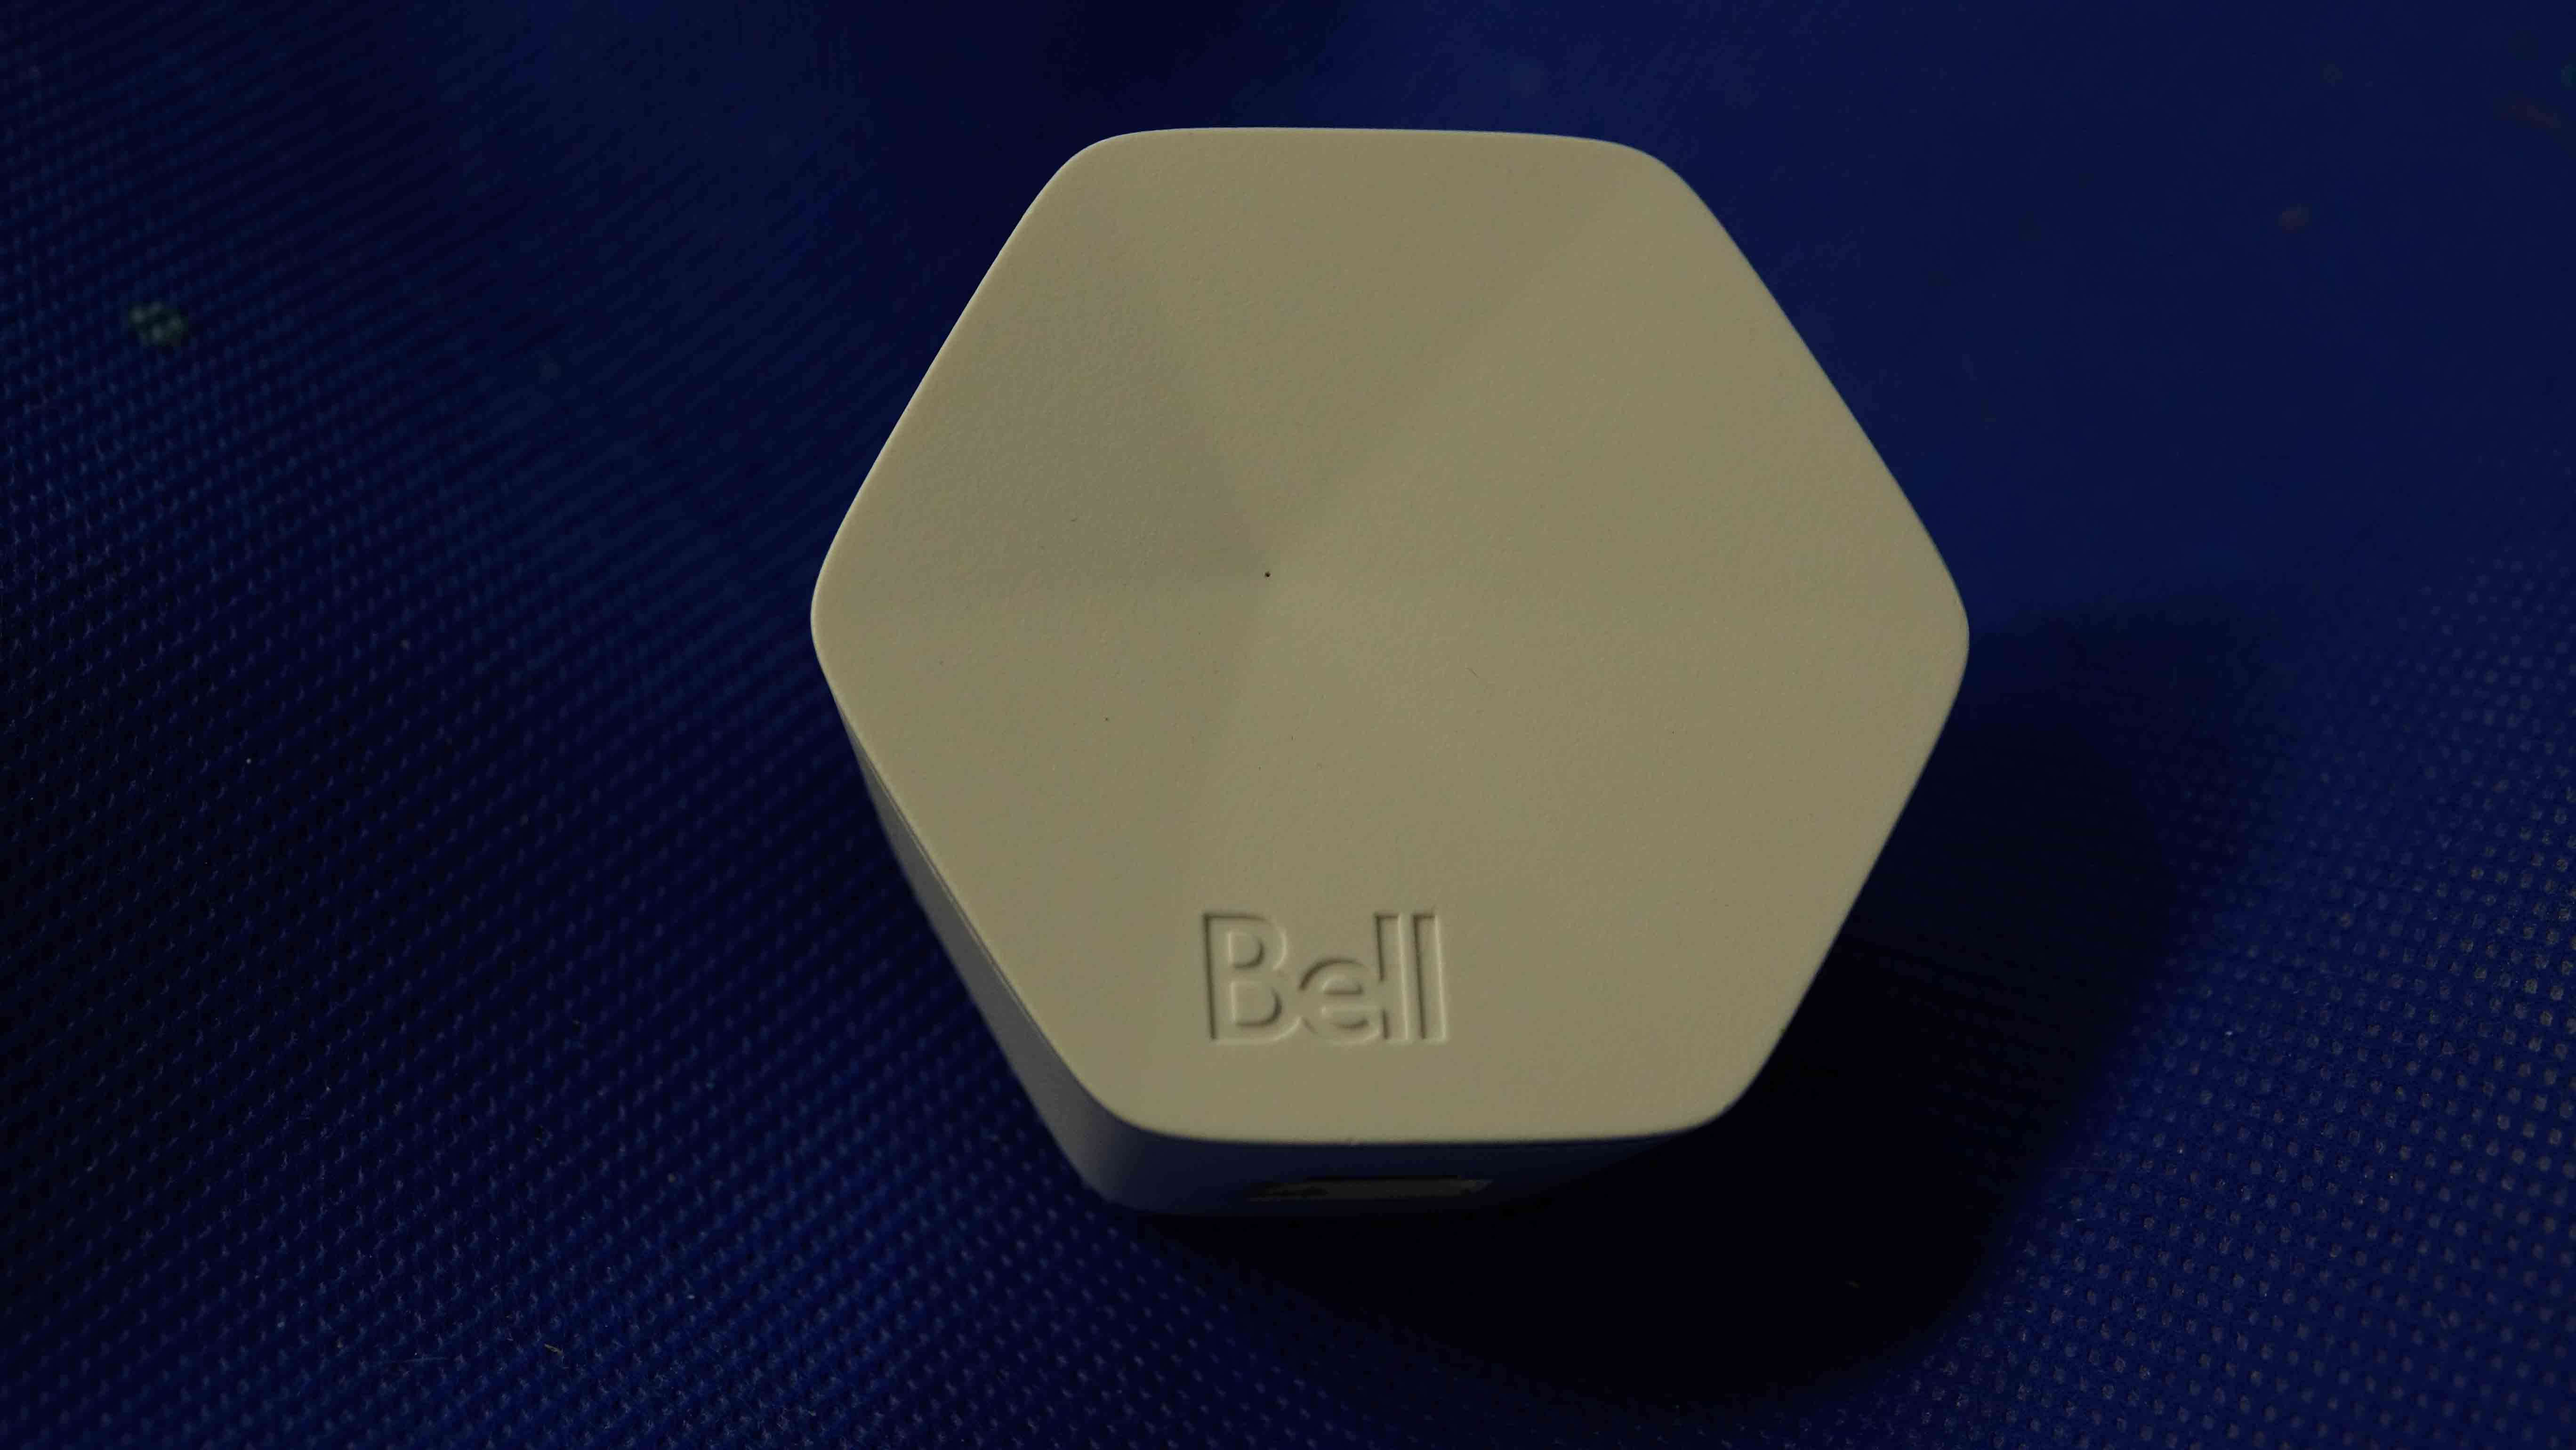pod: (807, 120, 1990, 1222)
